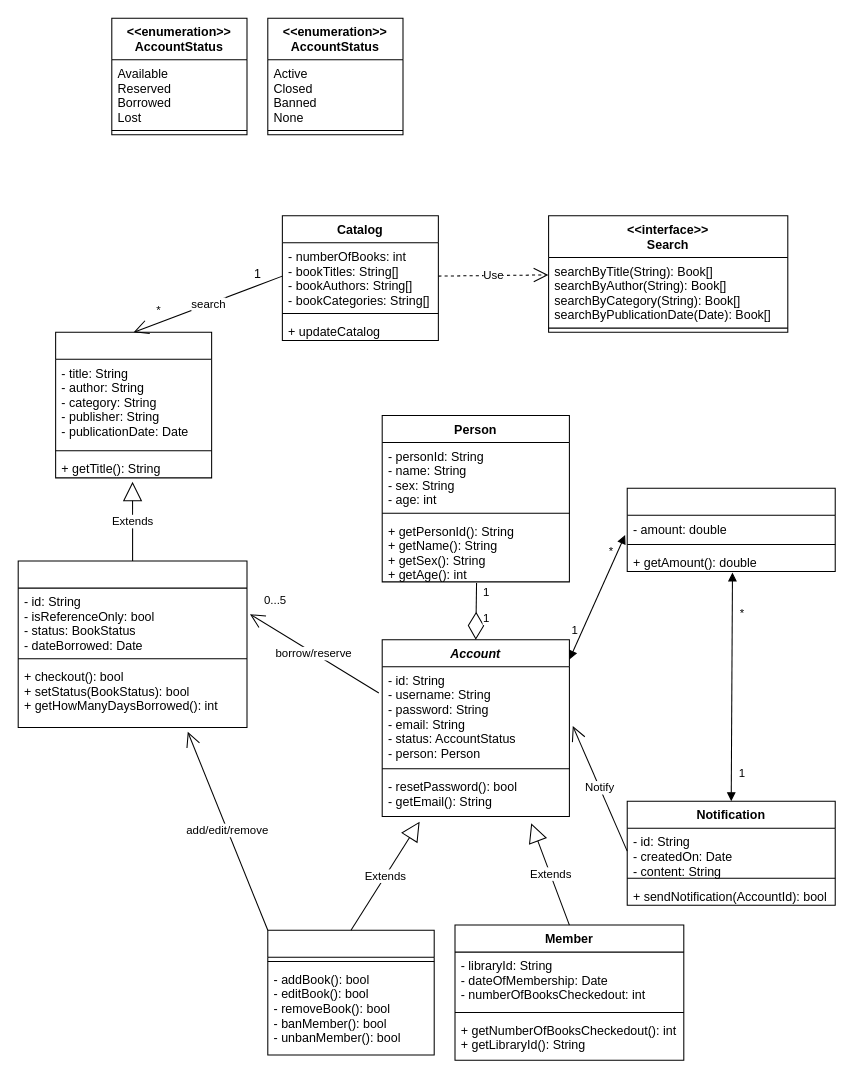
This 854x1082 diagram has some shape labels left out. Here are the shapes that lost their labels. From the top down, the box of each, then its label:
(55, 331, 212, 478): Book
(626, 487, 835, 571): Fine
(17, 560, 247, 727): BookInstance
(267, 929, 434, 1055): Librarian
